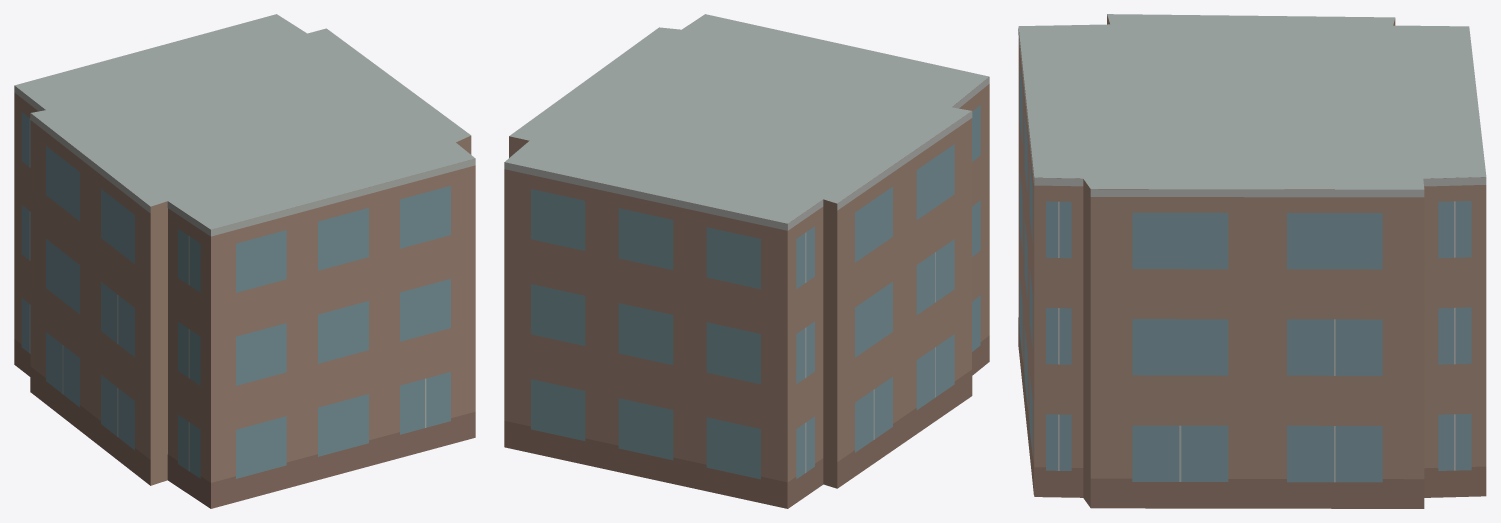
The model's file is survey-upis-32765227.glb.
3 views of the same model, side by side, from view 1: azimuth 30°, elevation 25°; view 2: azimuth 150°, elevation 25°; view 3: azimuth 270°, elevation 25° (orthographic). The views are drawn at different scales.
Visible parts, largest first — view 1: survey-upis-32765227.tmp; view 2: survey-upis-32765227.tmp; view 3: survey-upis-32765227.tmp.
Boxes of the visible parts, bbox=[...] form: survey-upis-32765227.tmp: bbox=[14, 14, 475, 508]; survey-upis-32765227.tmp: bbox=[504, 14, 989, 508]; survey-upis-32765227.tmp: bbox=[1018, 14, 1486, 508].
Size of the model in its own units: 11.69 by 9.9 by 13.16.
